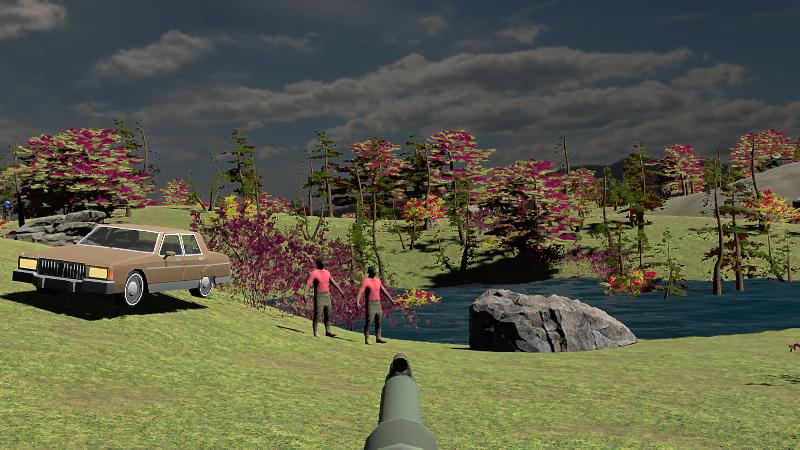Human: (305, 256, 344, 338), (357, 264, 395, 344)
car: (14, 224, 235, 309)
